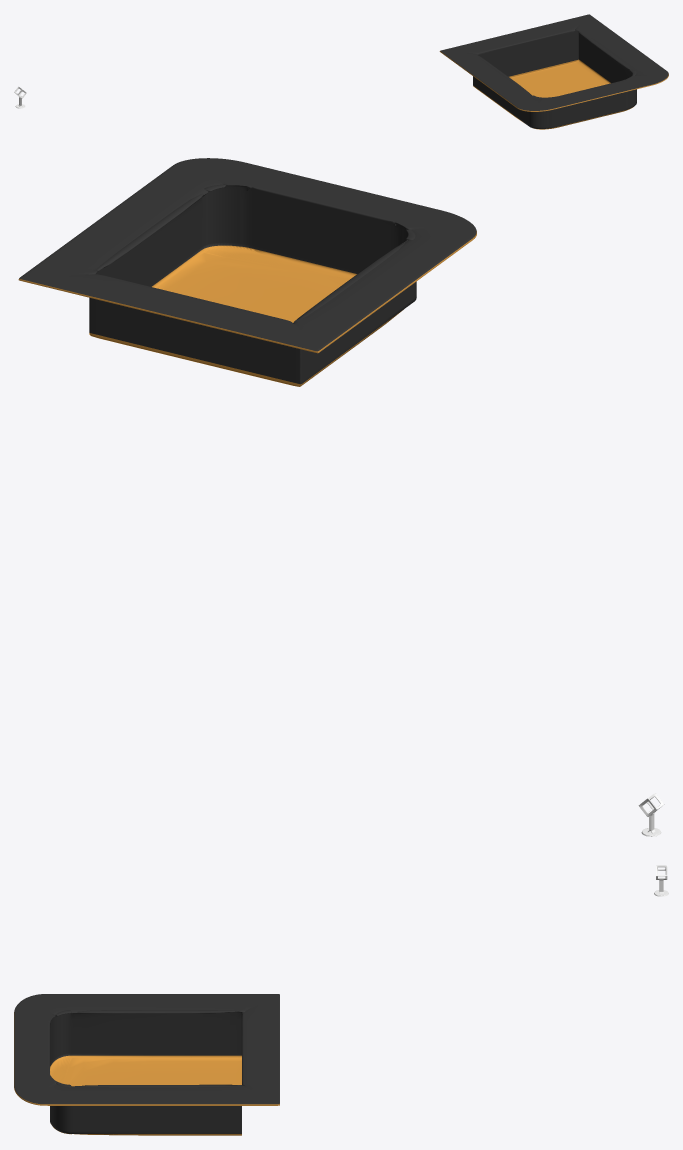
Rendered from statueII 1.fbx.
The picture shows the model from 3 angles, top to bottom: view 1: azimuth 30°, elevation 25°; view 2: azimuth 150°, elevation 25°; view 3: azimuth 270°, elevation 25°; orthographic projection. The views are drawn at different scales.
Parts seen in each view (by area): view 1: Cube.001; view 2: Cube.001; view 3: Cube.001.
Part boxes in pixels (<box>): Cube.001: <box>439,14,668,129</box>; Cube.001: <box>18,158,476,386</box>; Cube.001: <box>14,994,279,1135</box>.
Size of the model in its own units: 4154 by 681 by 3482.
